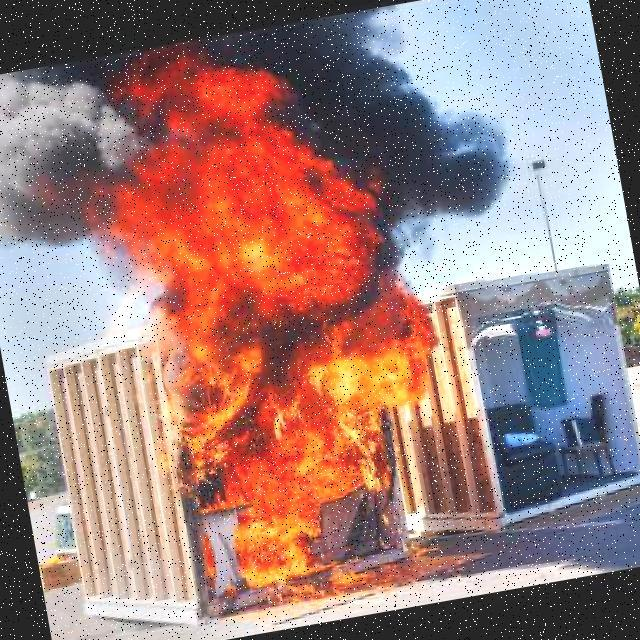Fire: (93, 30, 472, 608)
Smoke: (341, 11, 528, 237), (0, 54, 134, 269)
